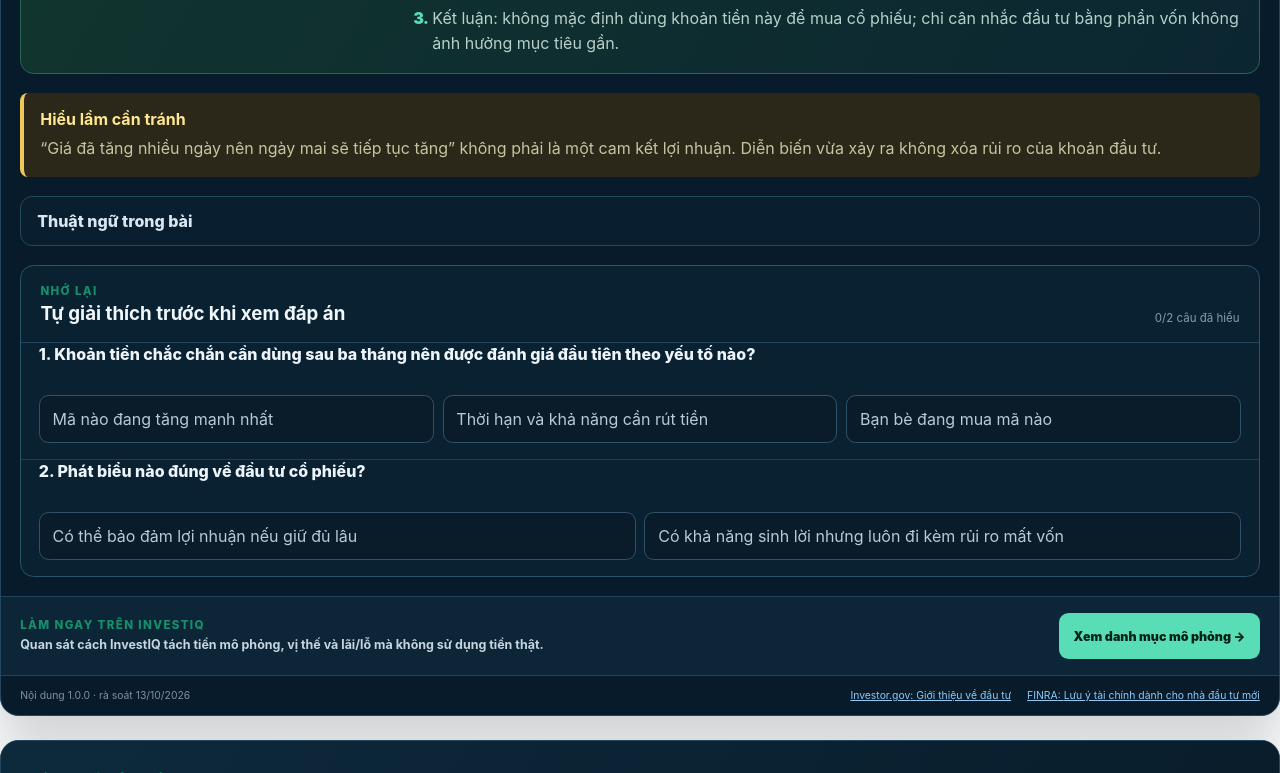
Test: beginner learning journey › teaches through feedback and persists completion only after every answer is correct
This screenshot has width=1280, height=773.
(page scrolled)
Click the button "Mã nào đang tăng mạnh nhất" at (236, 419), box [39,395,434,443]
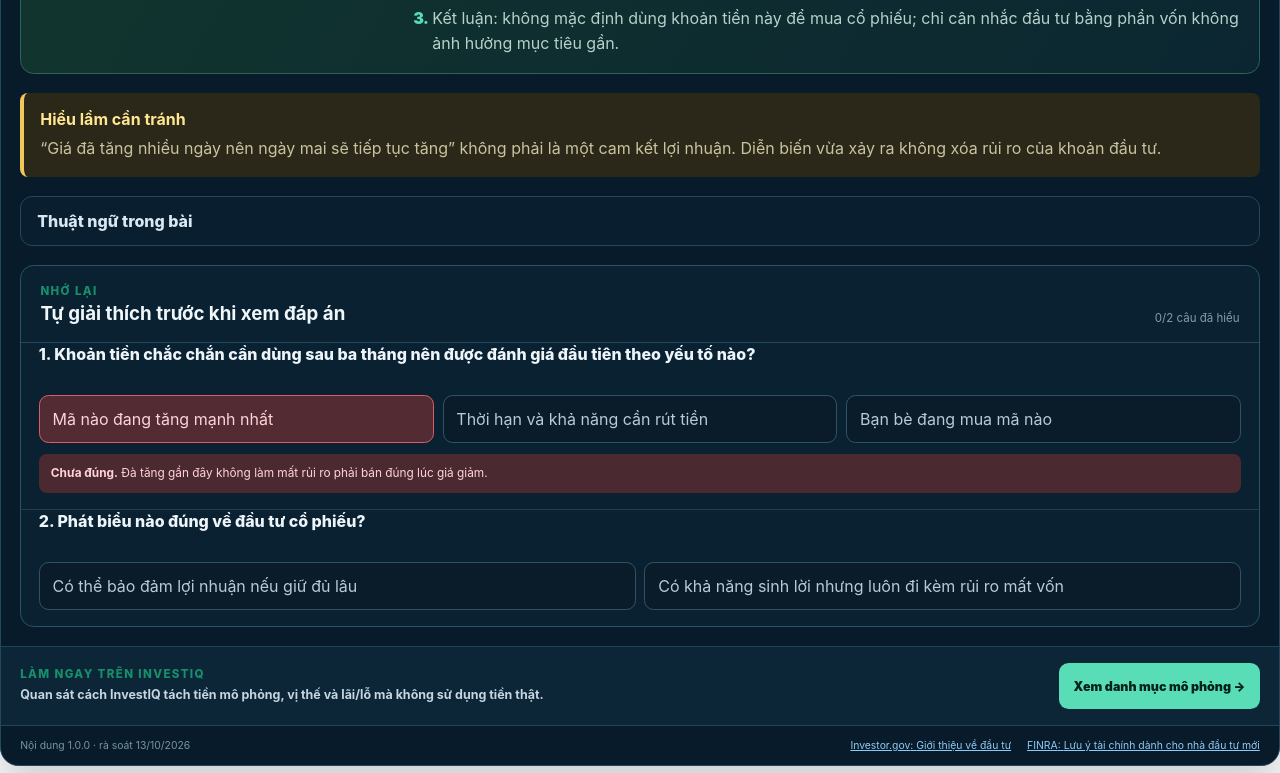
Expected: the message shows "Chưa đúng. Đà tăng gần đây", [39,454,1241,493]
Click the button "Thời hạn và khả năng cần rút tiền" at (640, 419), box [442,395,838,443]
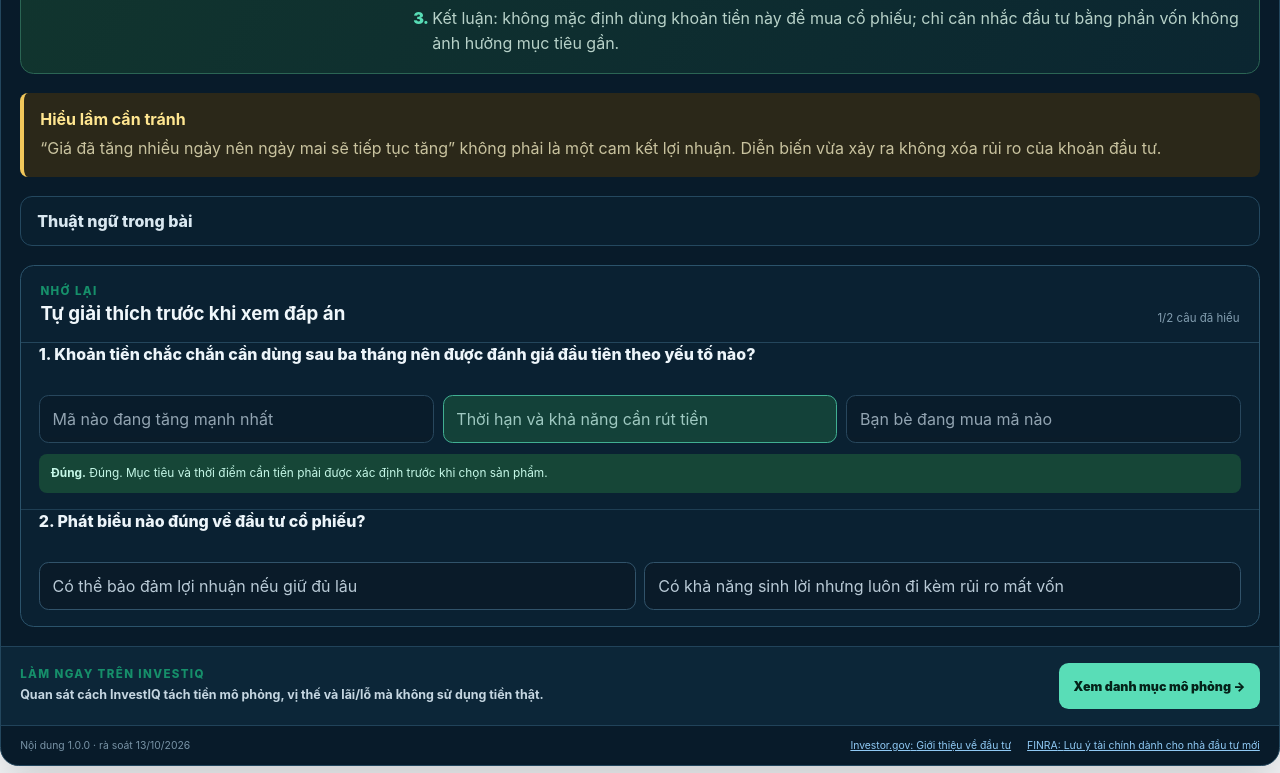
Click the button "Có khả năng sinh lời nhưng luôn đi kèm rủi ro mất vốn" at (943, 586), box [644,562,1241,610]
(page scrolled)
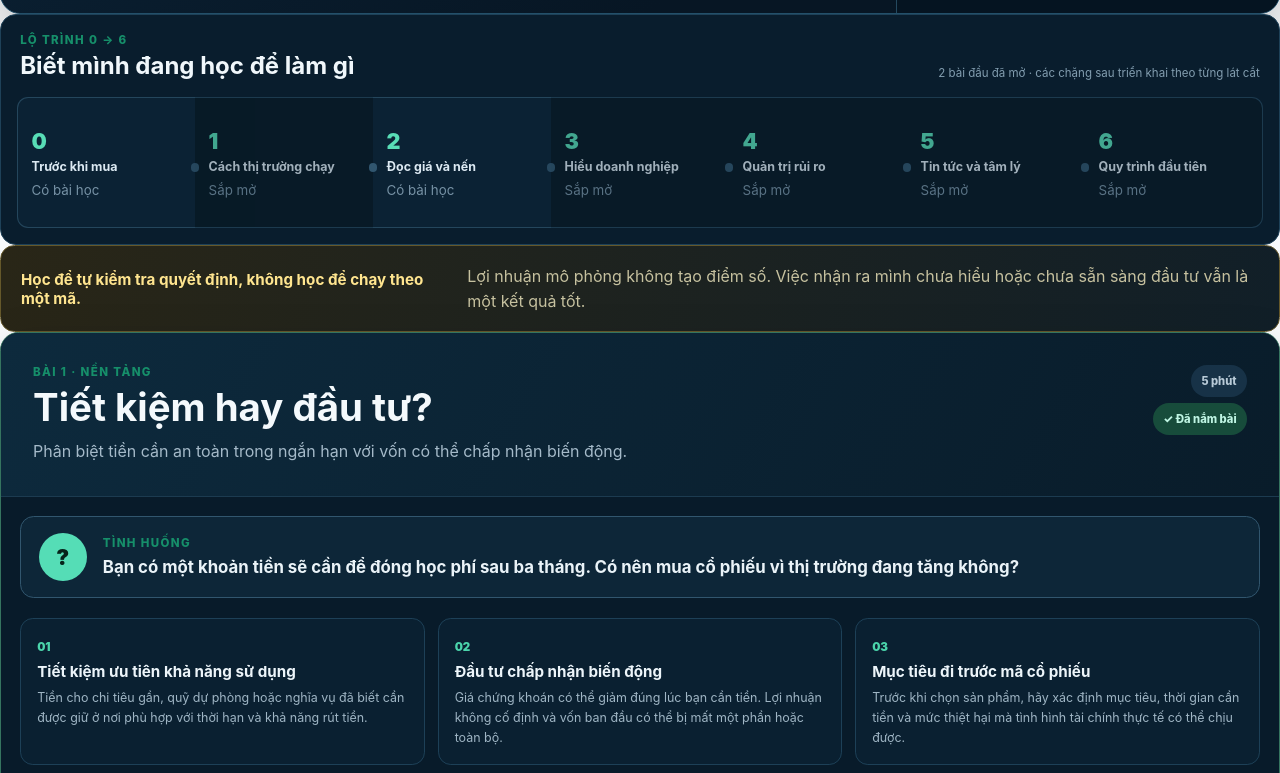
Expected: the text "✓ Đã nắm bài" is shown, [1153,404,1247,436]
